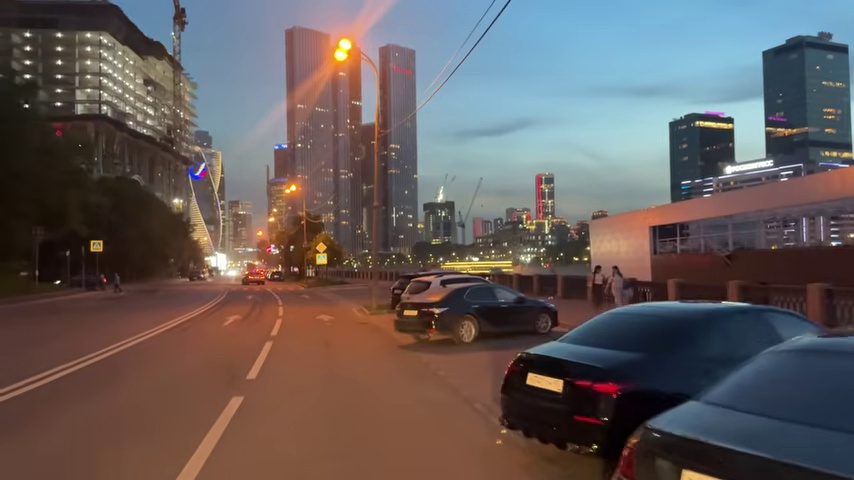acesa: (330, 37, 357, 65), (280, 180, 301, 198)
